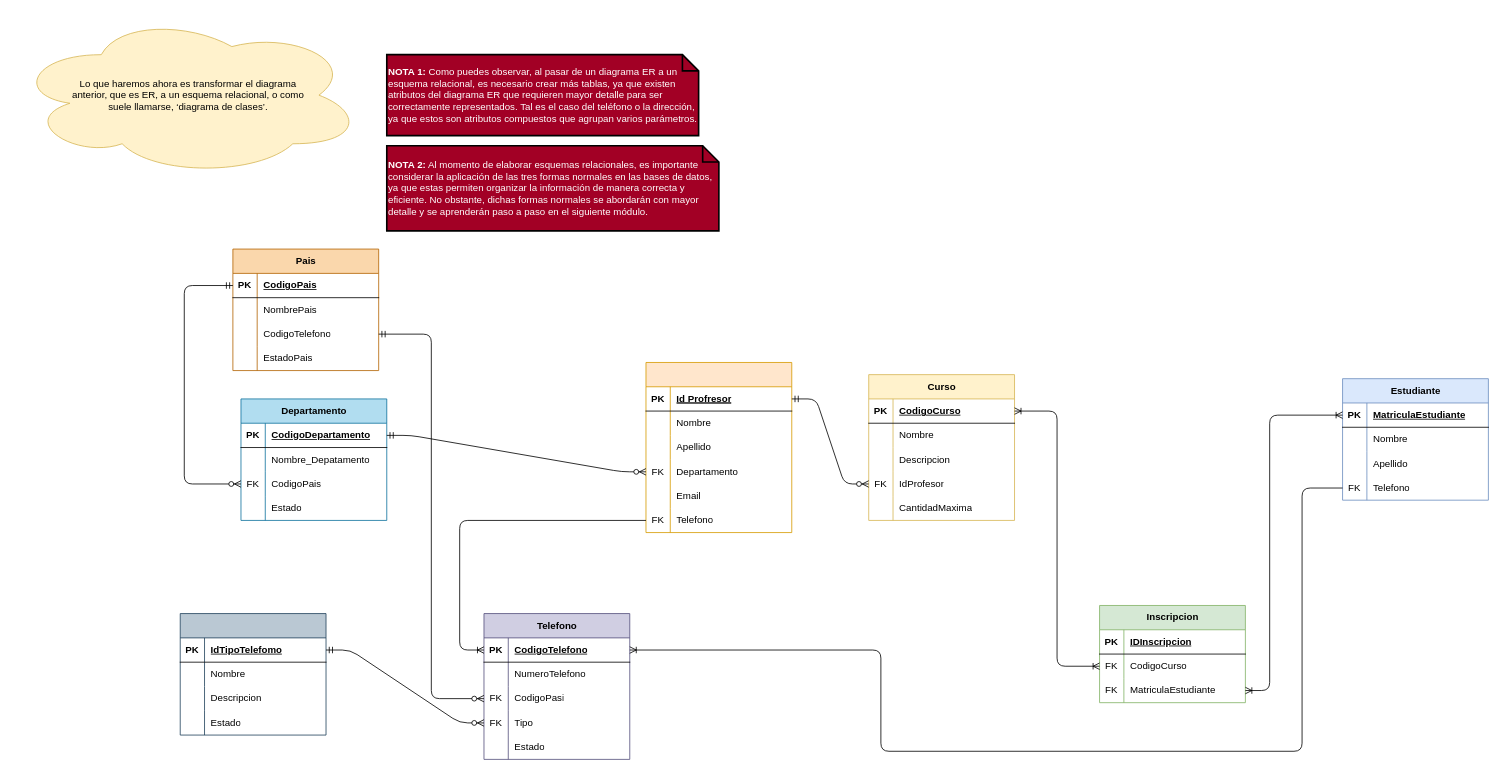
Some shapes in this 1503 by 774 pixel diagram are drawn without their labels. Here are the shapes that lost their labels. From the top down, the box of each, then its label:
(645, 362, 792, 533): Profesor
(179, 613, 326, 735): TipoTelefono
